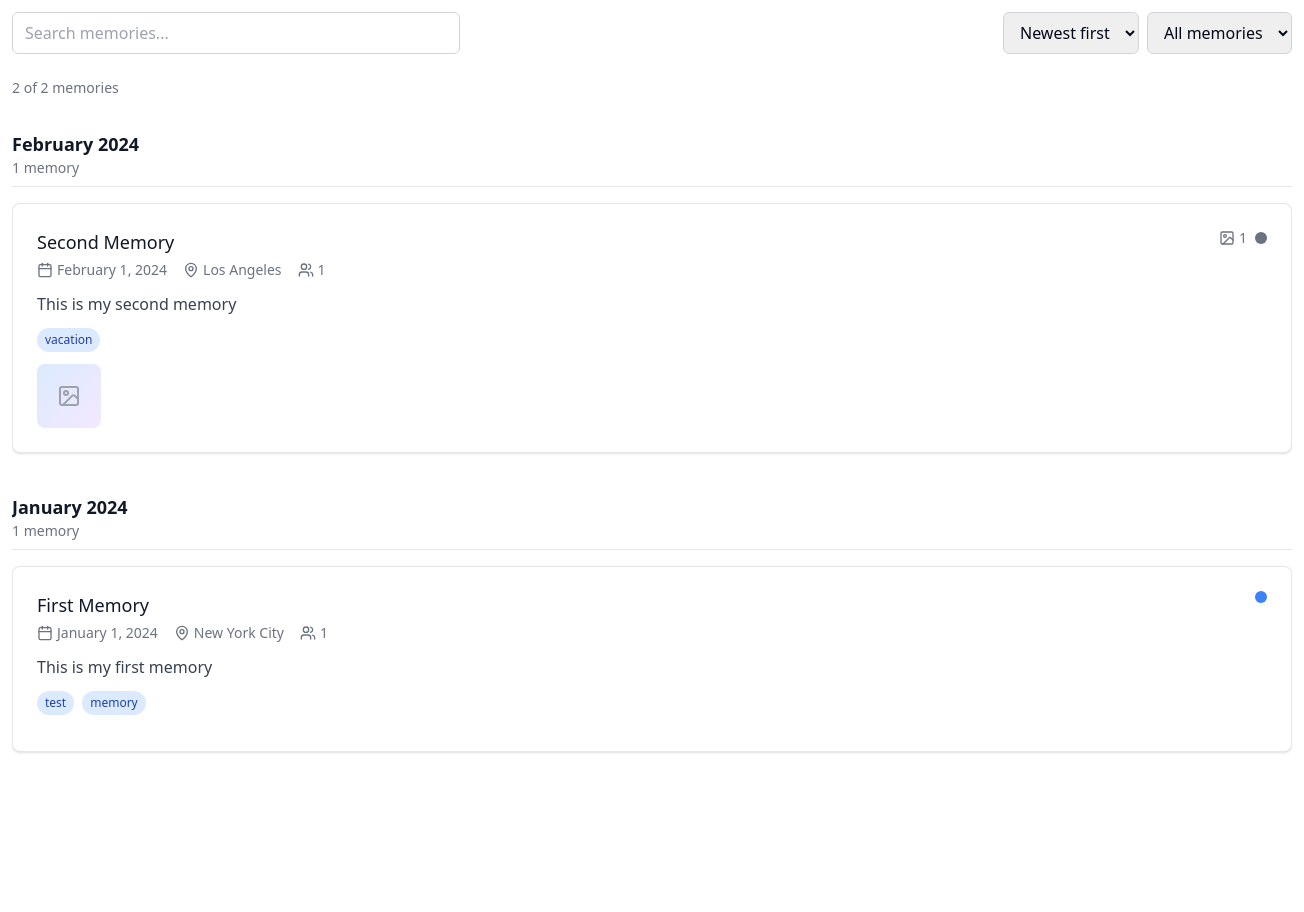
Timeline Component › filters memories by photos
Select "With photos" in the 2nd dropdown showing "All memories". click: (1220, 33)
box: [1147, 12, 1292, 54]
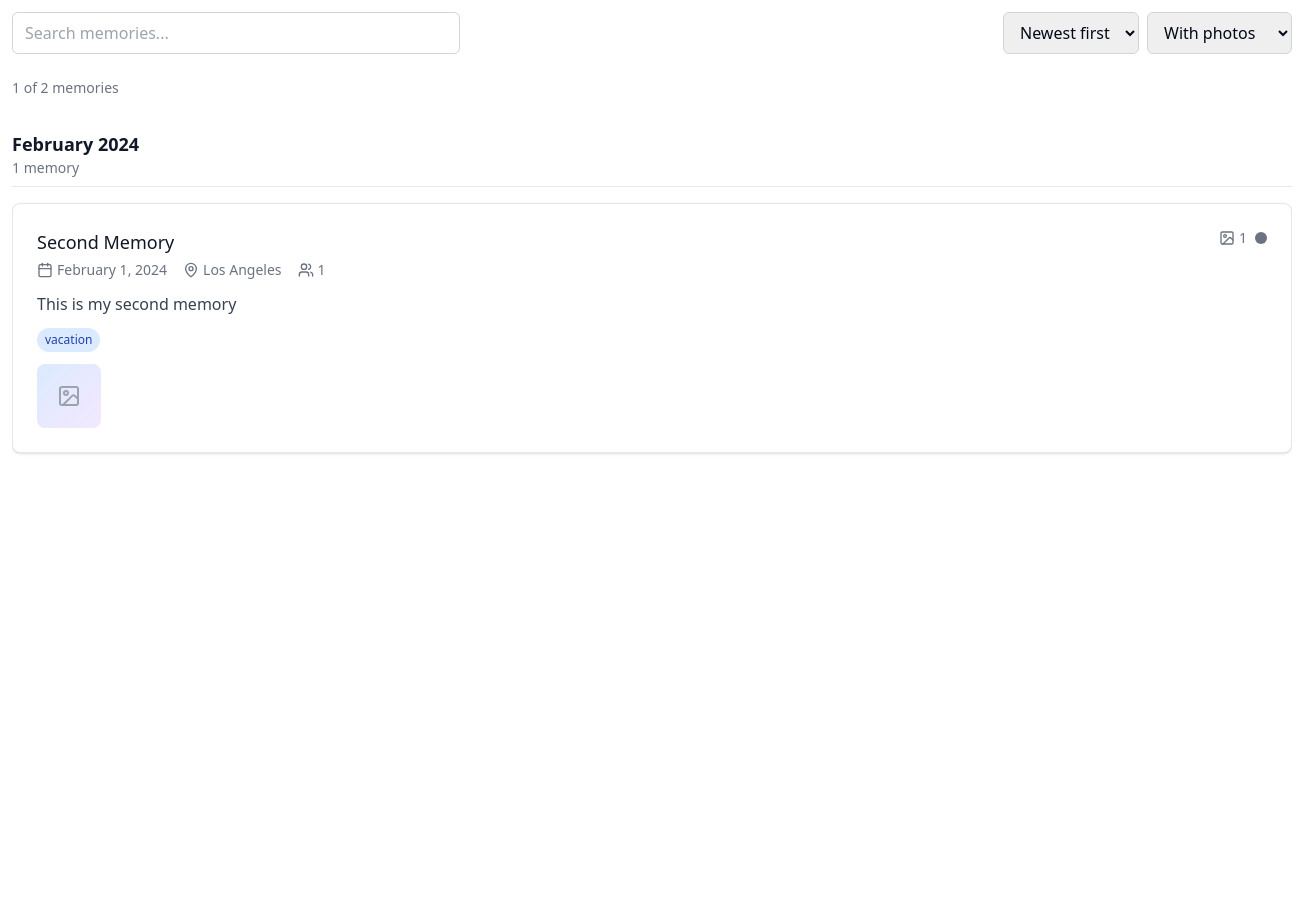
Expected: the heading "Second Memory" is shown, [37, 230, 174, 254]
Expected: the heading "First Memory" is gone
Expected: the text "1 of 2 memories" is shown, [12, 78, 119, 97]
